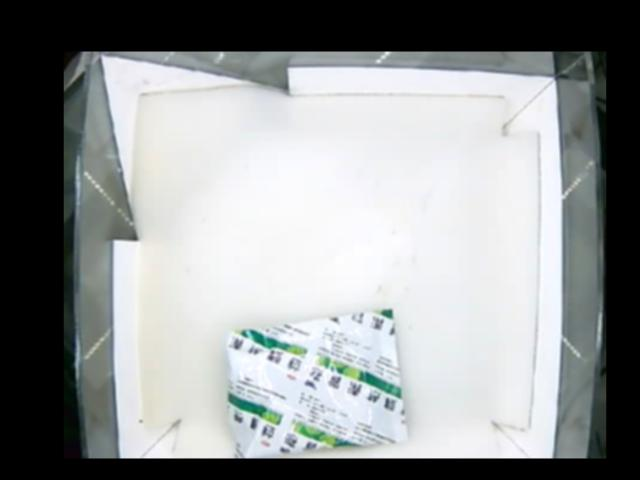Medicine: (223, 308, 408, 458)
